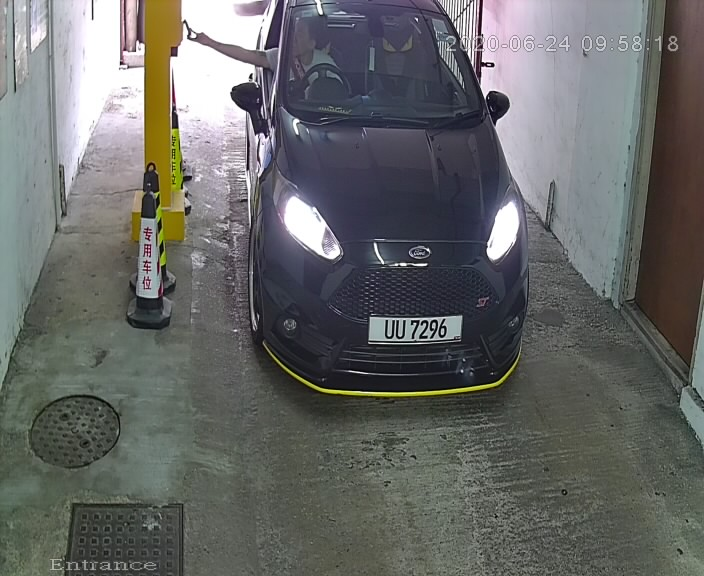Car: (213, 1, 536, 426)
License Plate: (364, 306, 470, 353)
